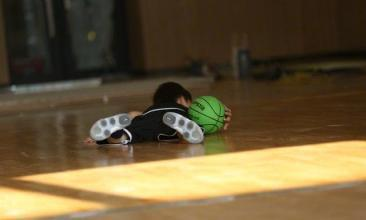Fall-Detected: (85, 70, 235, 149)
